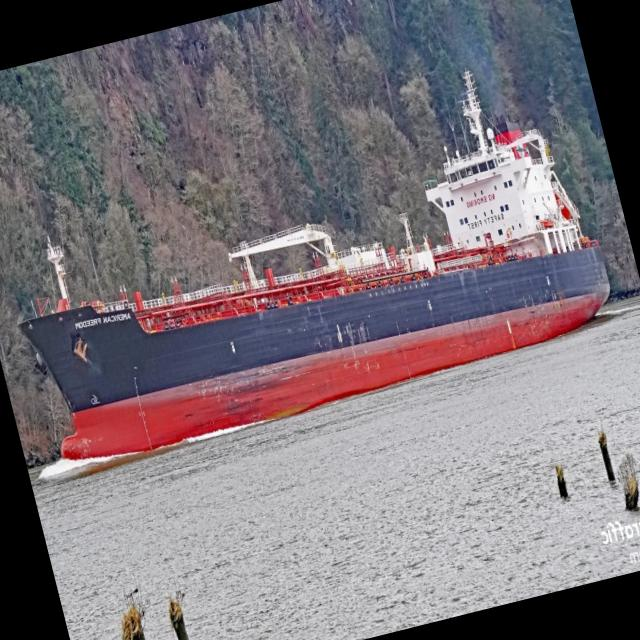Tanker: (19, 71, 609, 459)
